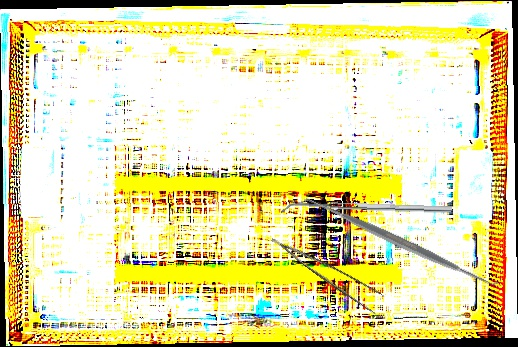Spatula Surgical: (296, 185, 501, 299), (281, 200, 452, 220)
Tissue Forceps: (270, 221, 390, 319)
